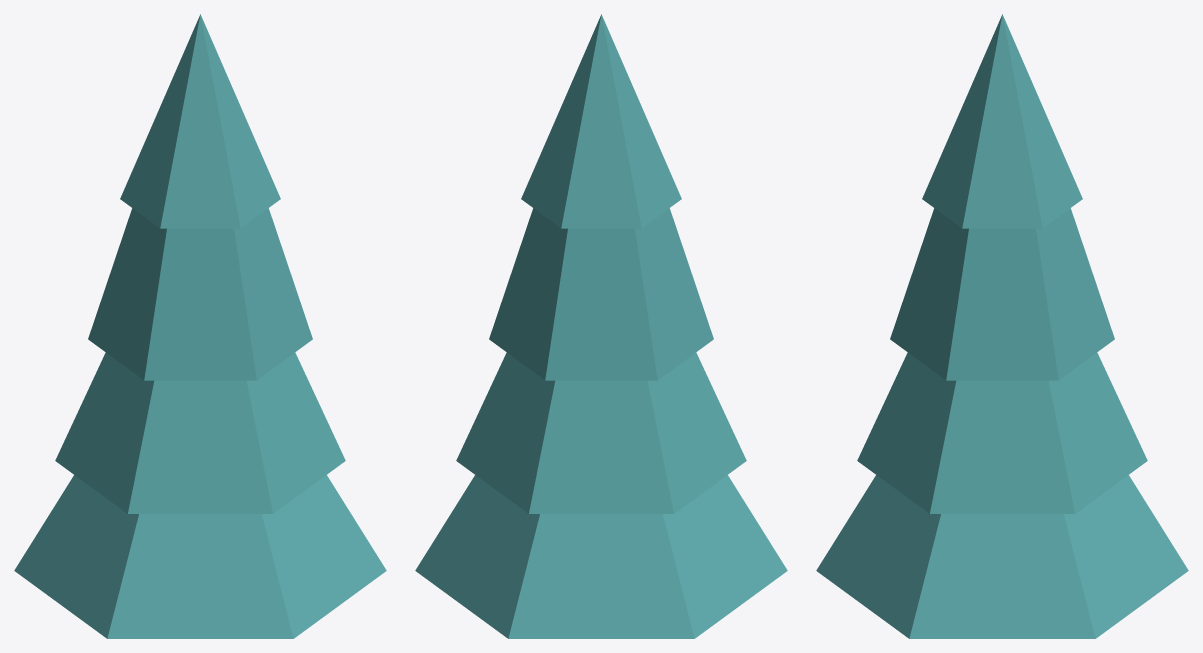
The model's file is tree_pineGroundA.glb.
The picture shows the model from 3 angles, left to right: view 1: azimuth 30°, elevation 25°; view 2: azimuth 150°, elevation 25°; view 3: azimuth 270°, elevation 25°; orthographic projection.
Parts seen in each view (by area): view 1: tree_pineGroundA; view 2: tree_pineGroundA; view 3: tree_pineGroundA.
Boxes of the visible parts, <box> form: tree_pineGroundA: <box>14,14,386,638</box>; tree_pineGroundA: <box>415,14,787,638</box>; tree_pineGroundA: <box>816,14,1188,638</box>.
Size of the model in its own units: 0.4804 by 0.9145 by 0.5547.
